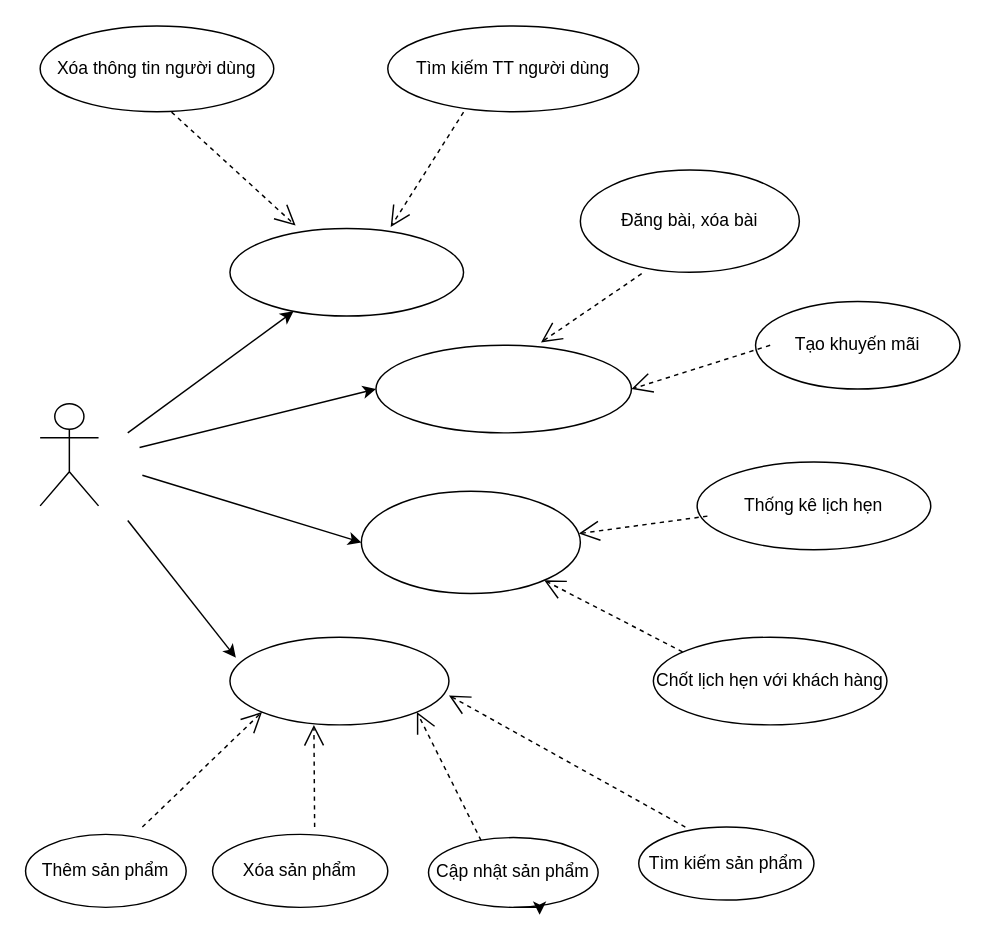
Some shapes in this 986 by 952 pixel diagram are drawn without their labels. The shapes that lost their labels are listed below. From the top down, each one's box as (x1, y1, x2, y2) in pixels, then its label:
(228, 227, 464, 316): Quản lý tài khoản khách hàng
(374, 344, 631, 433): Quản lý bài đăng, khuyến mãi
(39, 402, 99, 506): Admin
(360, 490, 580, 593): Quản lý lịch hẹn
(228, 636, 449, 725): Quản lý sản phẩm
